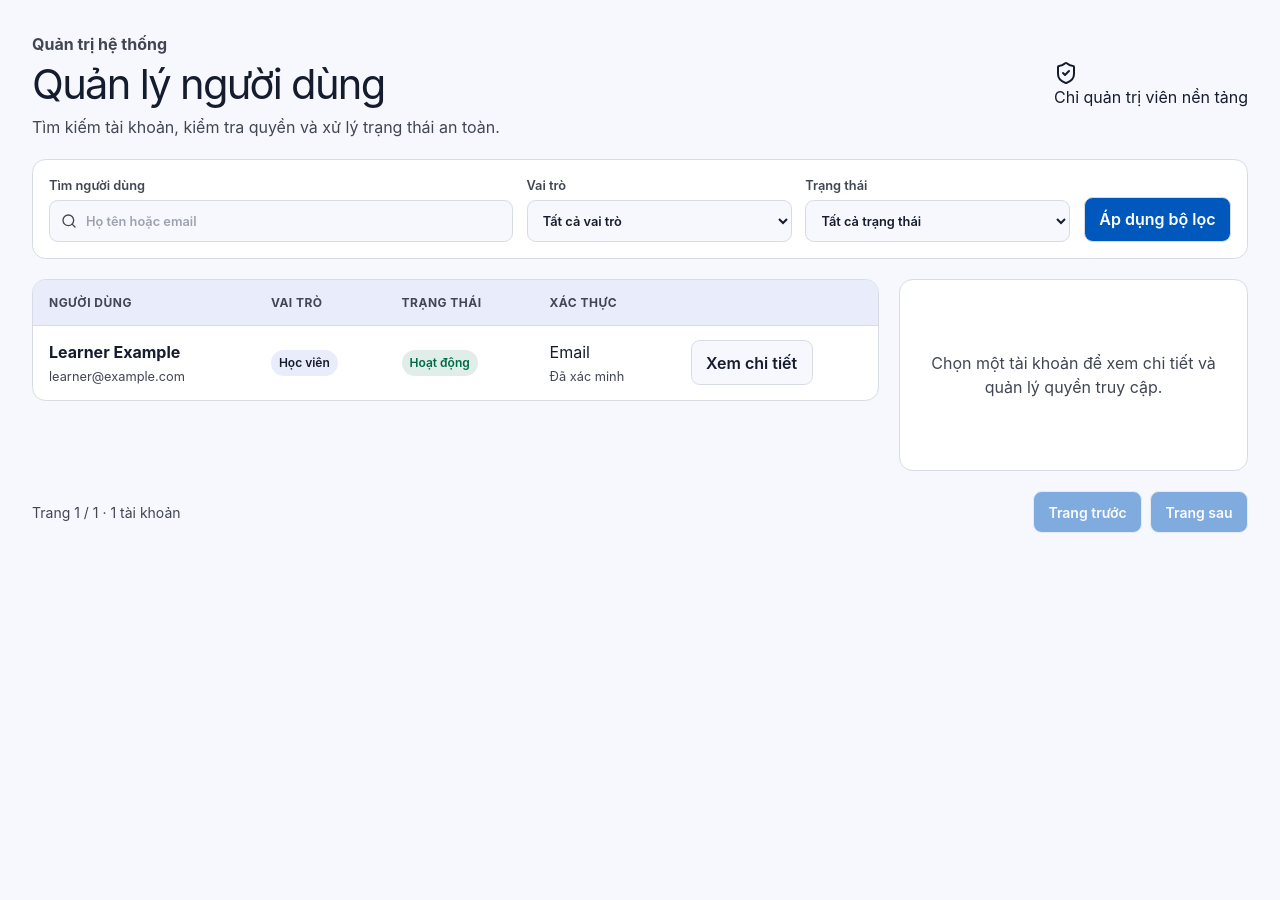
Test: AdminUserManagementPage › keeps a rejected account mutation visible for administrator review
Click the button with aria-label "Xem chi tiết Learner Example": (752, 363) [691, 340, 813, 386]
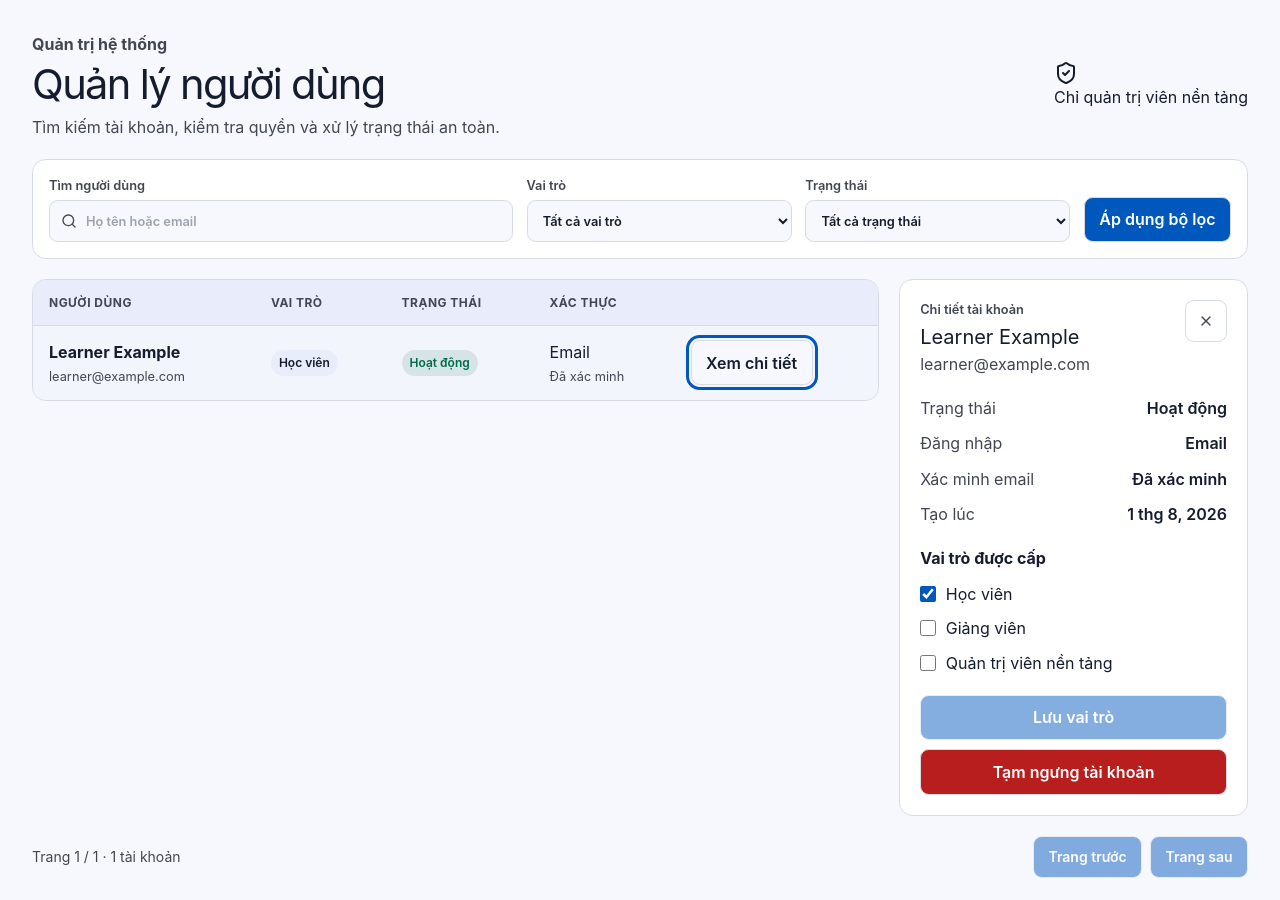
Expected: the heading "Learner Example" is shown, [920, 322, 1090, 352]
Click the button "Tạm ngưng tài khoản": (1074, 772) [920, 749, 1227, 795]
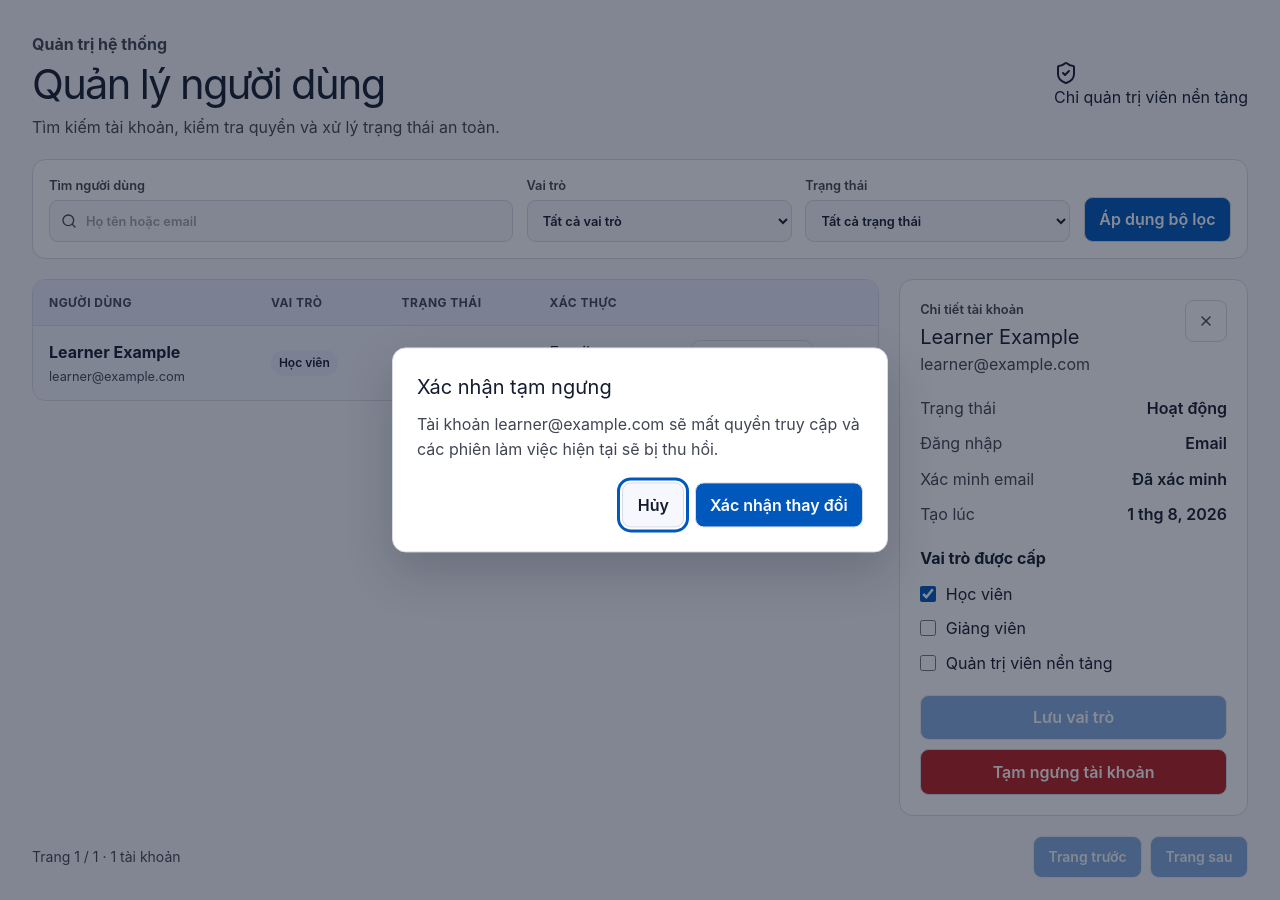
Click the button "Xác nhận thay đổi": (779, 505) [695, 482, 863, 528]
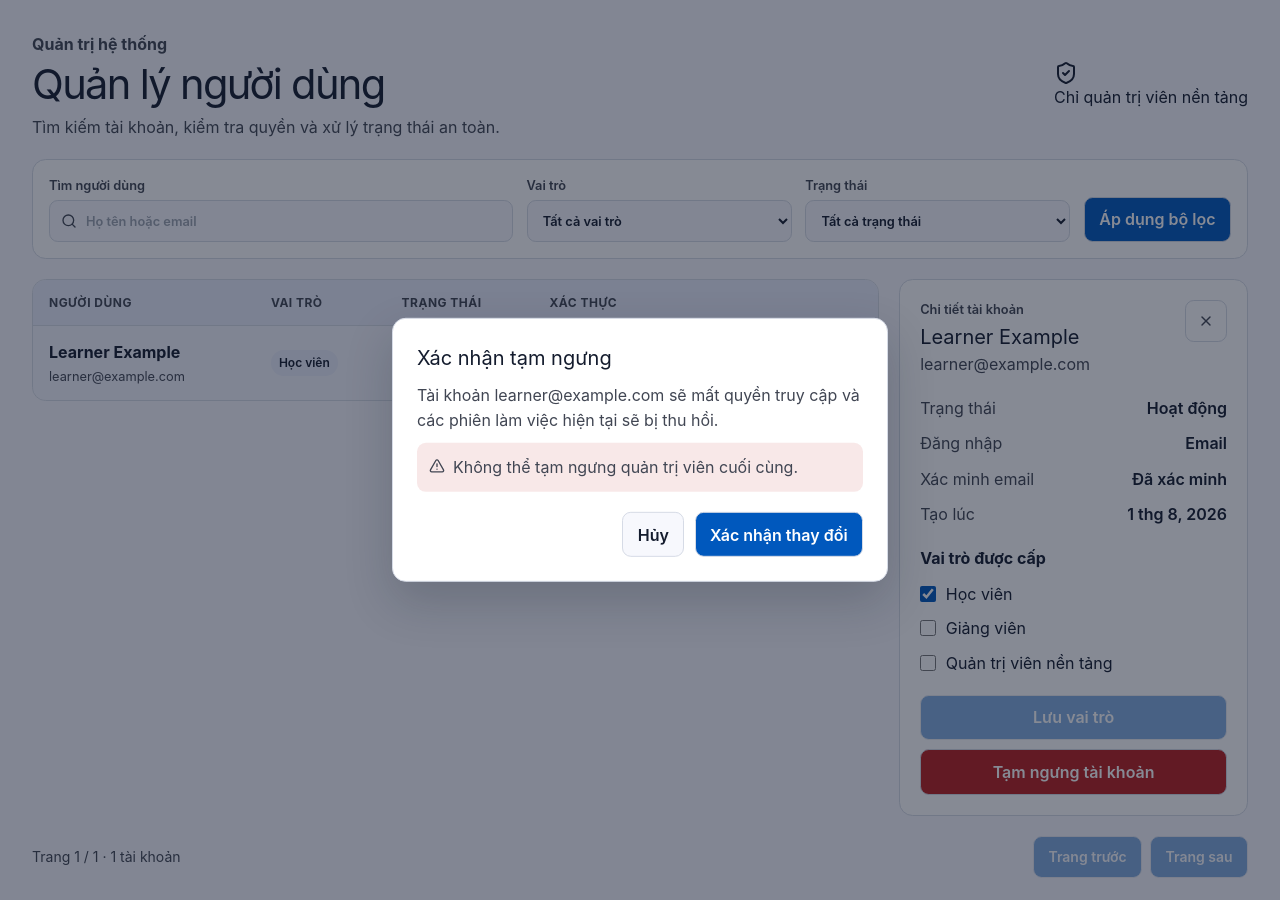
Expected: the dialog "Xác nhận tạm ngưng" is shown, [392, 318, 888, 582]
Expected: the message reads "Không thể tạm ngưng quản trị viên cuối cùng.", [453, 457, 798, 477]
